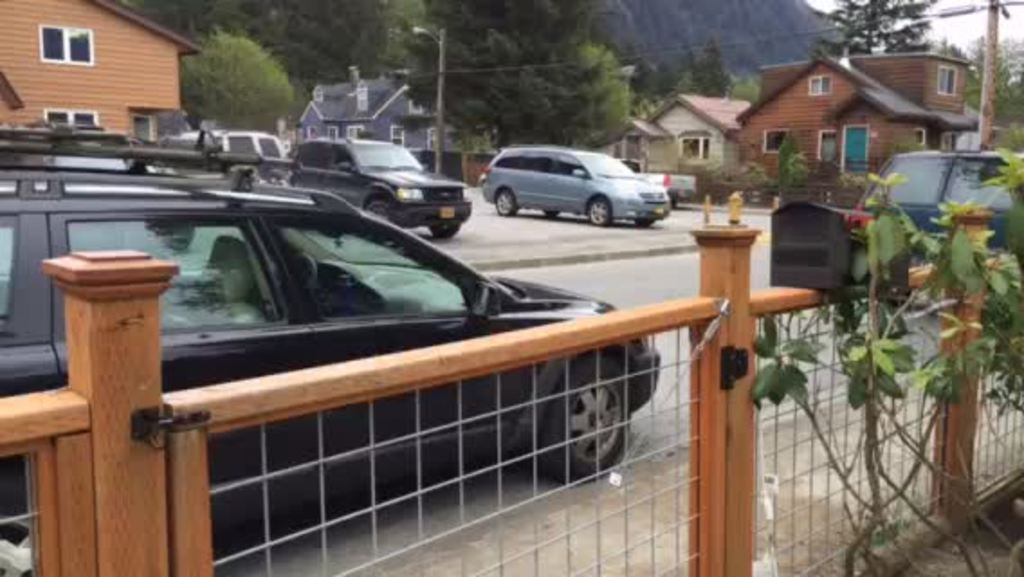mobil: (277, 132, 479, 240), (478, 139, 680, 235)
